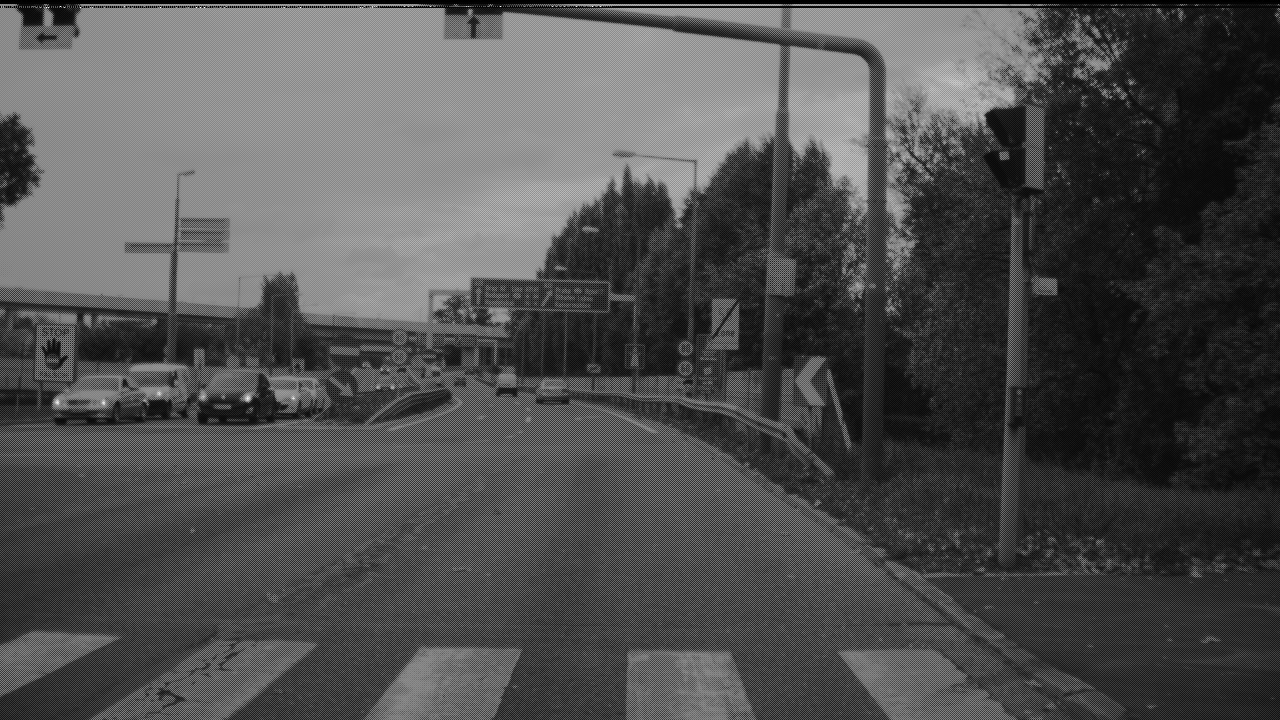pole: (757, 38, 790, 443), (998, 190, 1030, 559), (861, 57, 886, 472), (682, 153, 696, 403), (165, 166, 179, 354)
